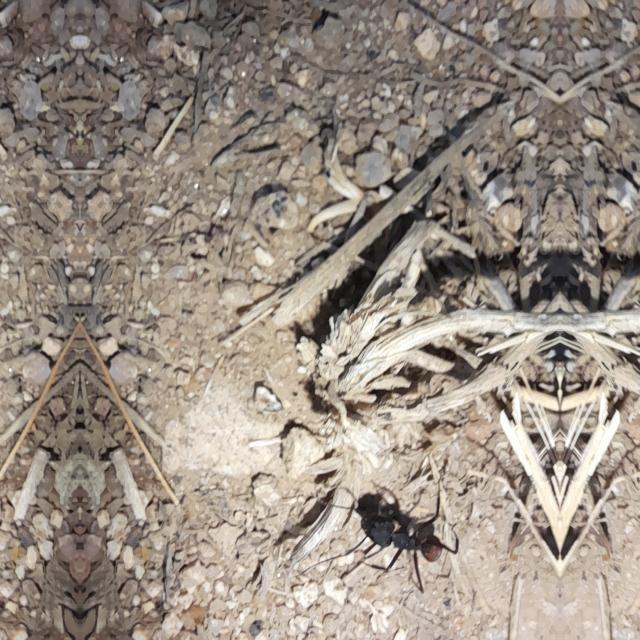Camponotus: (348, 483, 456, 587)
